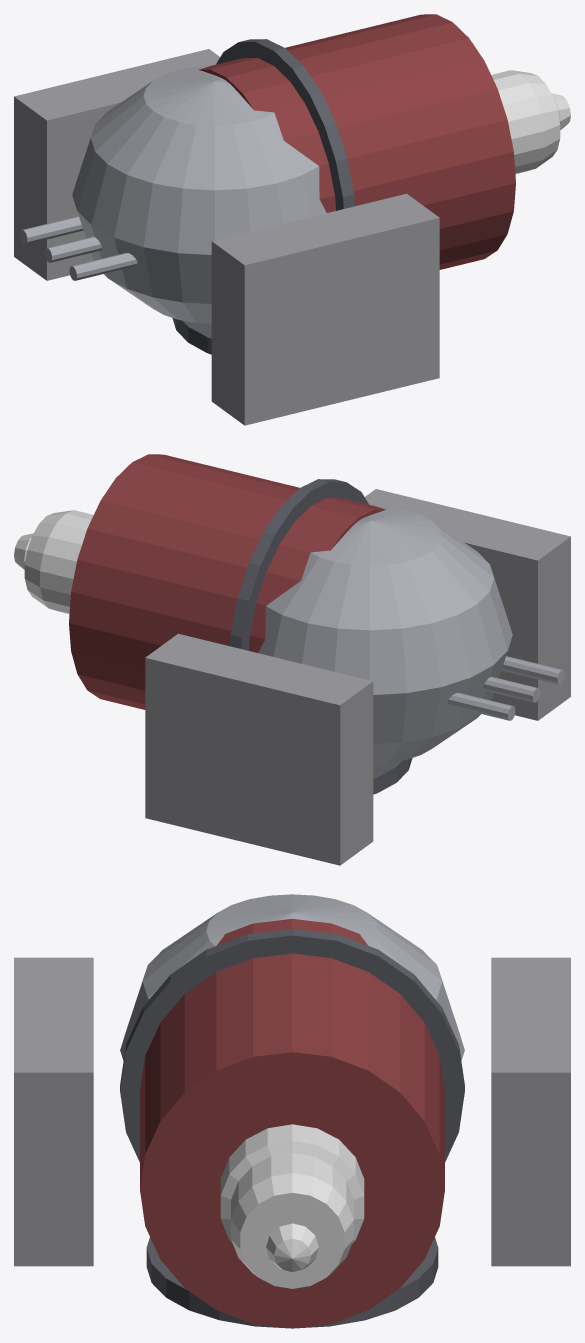
Rendered from vge_gun_anticraft_emitter.obj.
3 renders of one model, top to bottom at view 1: azimuth 30°, elevation 25°; view 2: azimuth 150°, elevation 25°; view 3: azimuth 270°, elevation 25°, orthographic. The views are drawn at different scales.
Parts seen in each view (by area): view 1: vge_gun_anticraft_emitter_2, vge_gun_anticraft_emitter_5, vge_gun_anticraft_emitter_1, vge_gun_anticraft_emitter_3, vge_gun_anticraft_emitter_6, vge_gun_anticraft_emitter_4, vge_gun_anticraft_emitter_8, vge_gun_anticraft_emitter_10, vge_gun_anticraft_emitter_9, vge_gun_anticraft_emitter_0; view 2: vge_gun_anticraft_emitter_3, vge_gun_anticraft_emitter_5, vge_gun_anticraft_emitter_1, vge_gun_anticraft_emitter_2, vge_gun_anticraft_emitter_6, vge_gun_anticraft_emitter_4, vge_gun_anticraft_emitter_10, vge_gun_anticraft_emitter_8, vge_gun_anticraft_emitter_9, vge_gun_anticraft_emitter_0; view 3: vge_gun_anticraft_emitter_5, vge_gun_anticraft_emitter_2, vge_gun_anticraft_emitter_3, vge_gun_anticraft_emitter_6, vge_gun_anticraft_emitter_4, vge_gun_anticraft_emitter_1, vge_gun_anticraft_emitter_0, vge_gun_anticraft_emitter_7.
Part boxes in pixels (bbox=[...]): vge_gun_anticraft_emitter_2: bbox=[211, 193, 439, 425]; vge_gun_anticraft_emitter_5: bbox=[199, 14, 515, 269]; vge_gun_anticraft_emitter_1: bbox=[72, 66, 326, 323]; vge_gun_anticraft_emitter_3: bbox=[14, 49, 219, 280]; vge_gun_anticraft_emitter_6: bbox=[491, 70, 560, 173]; vge_gun_anticraft_emitter_4: bbox=[216, 39, 355, 210]; vge_gun_anticraft_emitter_8: bbox=[69, 253, 137, 280]; vge_gun_anticraft_emitter_10: bbox=[20, 216, 83, 244]; vge_gun_anticraft_emitter_9: bbox=[44, 236, 101, 262]; vge_gun_anticraft_emitter_0: bbox=[172, 318, 211, 354]; vge_gun_anticraft_emitter_3: bbox=[145, 633, 373, 865]; vge_gun_anticraft_emitter_5: bbox=[69, 454, 385, 709]; vge_gun_anticraft_emitter_1: bbox=[258, 506, 512, 763]; vge_gun_anticraft_emitter_2: bbox=[365, 489, 570, 720]; vge_gun_anticraft_emitter_6: bbox=[24, 510, 93, 613]; vge_gun_anticraft_emitter_4: bbox=[229, 479, 368, 650]; vge_gun_anticraft_emitter_10: bbox=[447, 693, 515, 720]; vge_gun_anticraft_emitter_8: bbox=[501, 656, 564, 684]; vge_gun_anticraft_emitter_9: bbox=[483, 676, 540, 702]; vge_gun_anticraft_emitter_0: bbox=[373, 758, 412, 794]; vge_gun_anticraft_emitter_5: bbox=[140, 919, 444, 1328]; vge_gun_anticraft_emitter_2: bbox=[14, 957, 93, 1266]; vge_gun_anticraft_emitter_3: bbox=[491, 957, 570, 1266]; vge_gun_anticraft_emitter_6: bbox=[220, 1124, 364, 1288]; vge_gun_anticraft_emitter_4: bbox=[120, 929, 464, 1162]; vge_gun_anticraft_emitter_1: bbox=[120, 894, 464, 1060]; vge_gun_anticraft_emitter_0: bbox=[146, 1237, 438, 1328]; vge_gun_anticraft_emitter_7: bbox=[266, 1223, 318, 1272].
Bounding box in the file's own units: 5.47 × 2.72 × 4.2.
